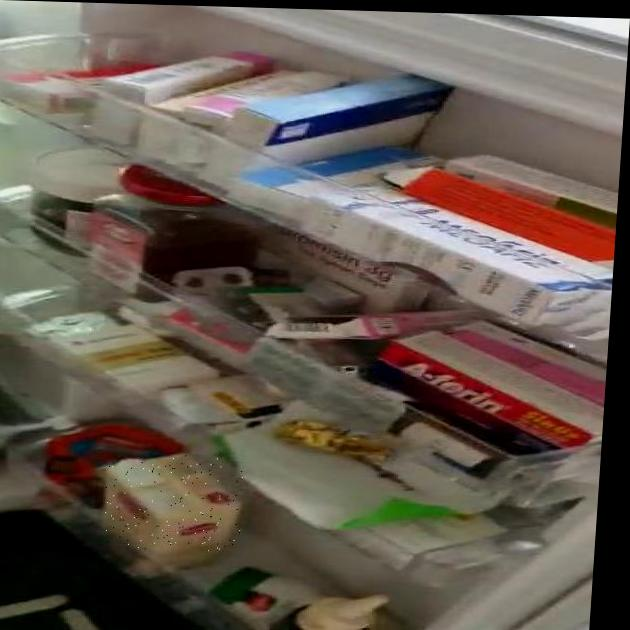eggs: (100, 453, 245, 553)
